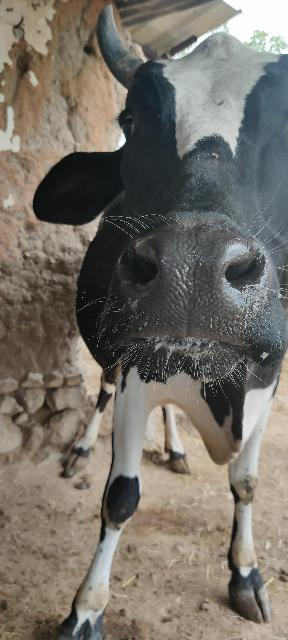Muzzle: (143, 237, 247, 347)
